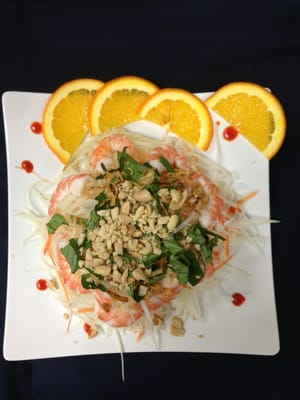taco: (91, 76, 215, 154), (42, 78, 149, 166), (205, 82, 287, 161), (41, 78, 105, 166), (135, 88, 215, 153), (88, 75, 159, 136)
